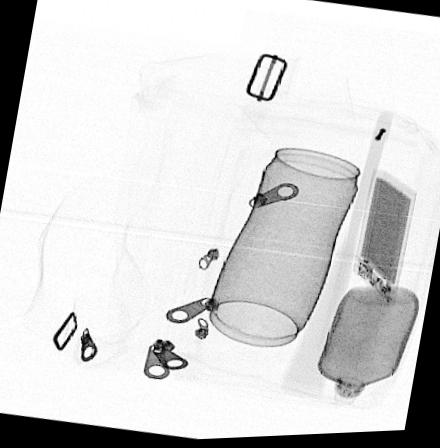Powerbank: (349, 171, 416, 307)
